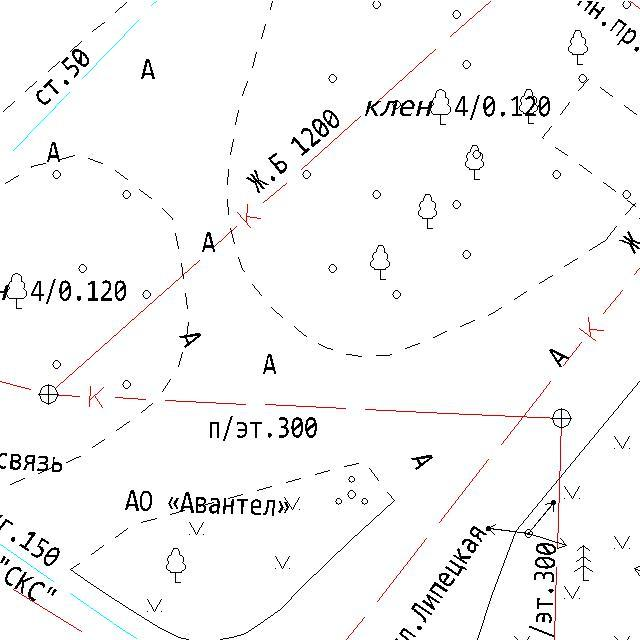asphalt: (176, 330, 202, 350), (547, 346, 570, 368), (138, 57, 157, 81), (44, 140, 62, 164), (410, 453, 434, 471), (200, 230, 217, 254), (261, 352, 278, 376)
tree: (162, 546, 188, 586), (572, 543, 596, 583), (429, 87, 453, 126), (368, 243, 392, 281), (566, 28, 590, 66), (464, 141, 486, 181), (6, 272, 28, 310), (417, 192, 439, 230)
well: (36, 382, 60, 408), (549, 406, 574, 430)
